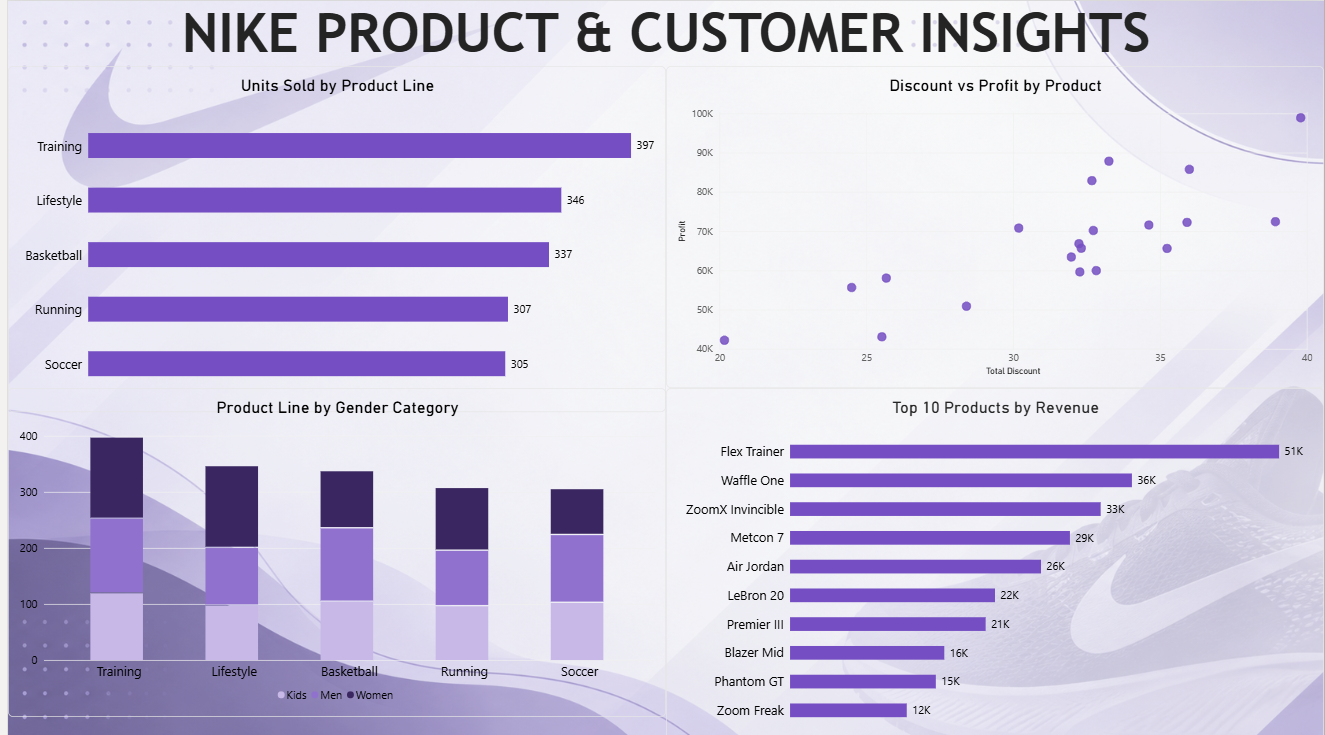

Layout of this report page (visuals, bound fields, positions):
{"tool":"powerbi","page":{"name":"Page 2","canvas":[1920,1080],"ordinal":1},"visuals":[{"type":"barChart","title":"Units Sold by Product Line","fields":{"Category":["Sheet1.Product_Line"],"Y":["Sum(Sheet1.Units_Sold)"]},"box":[0,94.8,960,504.8],"z":0},{"type":"textbox","box":[0,0,1920,94.8],"z":1},{"type":"columnChart","title":"Product Line by Gender Category","fields":{"Category":["Sheet1.Product_Line"],"Series":["Sheet1.Gender_Category"],"Y":["Sum(Sheet1.Units_Sold)"]},"box":[0,564.6,960,480],"z":2},{"type":"scatterChart","title":"Discount vs Profit by Product","fields":{"Category":["Sheet1.Product_Name"],"X":["Sum(Sheet1.Discount_Applied)"],"Y":["Sum(Sheet1.Profit)"]},"box":[960,94.8,960,469.8],"z":3},{"type":"barChart","title":"Top 10 Products by Revenue","fields":{"Category":["Sheet1.Product_Name"],"Y":["Sum(Sheet1.Revenue)"]},"box":[960,564.6,960,515],"z":4}]}

Visuals, with their boxes in screenshot pixels (x1, y1, x2, y2), scaled from the page's 1920x1080 canvas onto the 1325x735 screenshot:
"Units Sold by Product Line" barChart: x1=0 y1=65 x2=662 y2=408
textbox: x1=0 y1=0 x2=1324 y2=65
"Product Line by Gender Category" columnChart: x1=0 y1=384 x2=662 y2=711
"Discount vs Profit by Product" scatterChart: x1=662 y1=65 x2=1324 y2=384
"Top 10 Products by Revenue" barChart: x1=662 y1=384 x2=1324 y2=734
